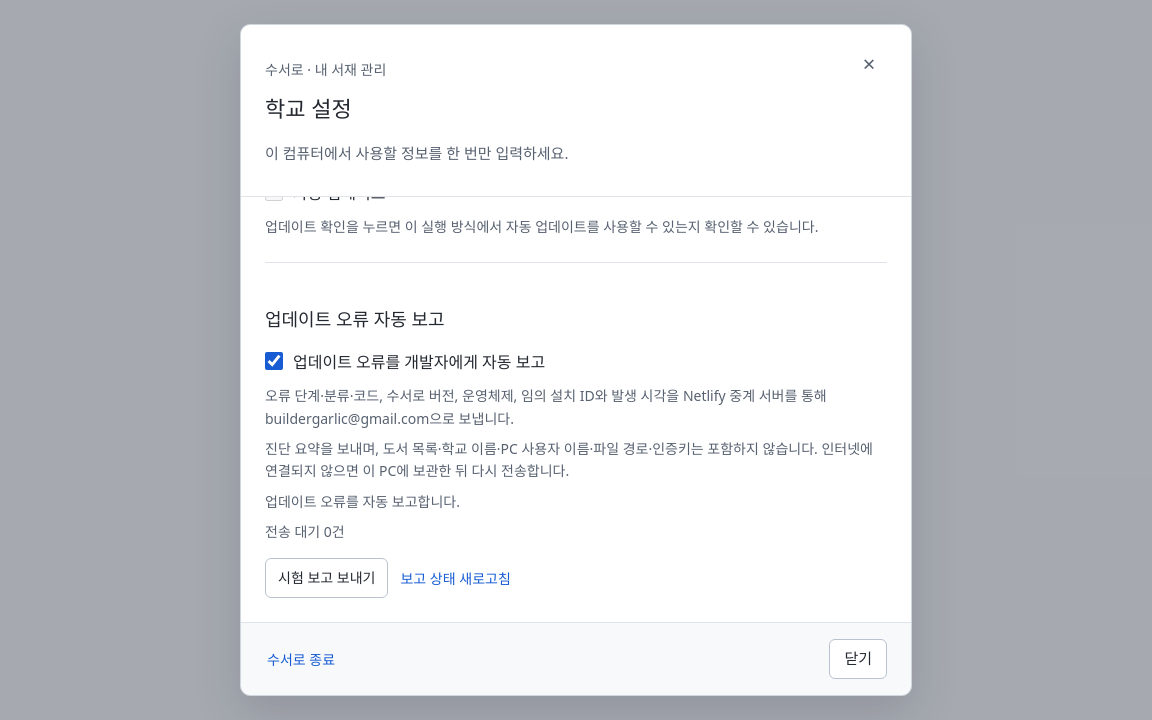
Test: loads the saved reporting preference and discloses the destination and limited data
(page scrolled)
Expected: the text "Netlify 중계 서버를 통해 buildergarlic@gmail.com" is shown, [265, 386, 827, 428]
Expected: the text "도서 목록·학교 이름·PC 사용자 이름·파일 경로·인증키는 포함하지 않습니다" is shown, [265, 439, 873, 480]
Click the checkbox labelled "업데이트 오류를 개발자에게 자동 보고" at [274, 361], box [265, 352, 283, 370]
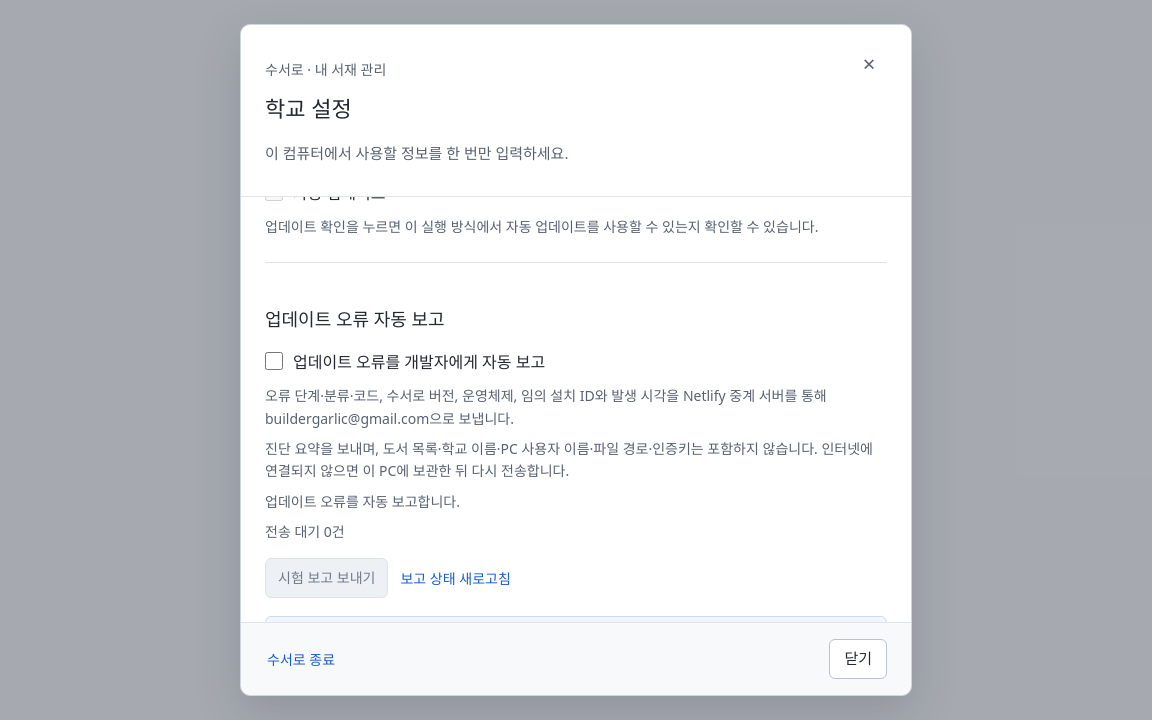
Expected: the checkbox labelled "업데이트 오류를 개발자에게 자동 보고" is not checked, [265, 352, 283, 370]
Expected: the button "시험 보고 보내기" is disabled, [265, 558, 388, 598]
